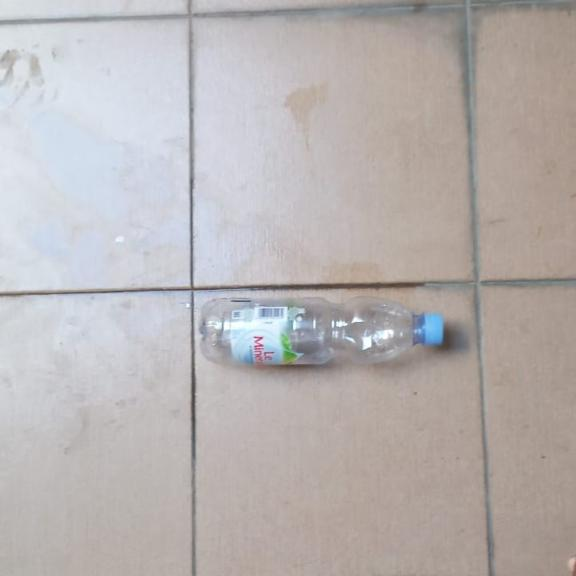Plastik: (199, 296, 443, 367)
